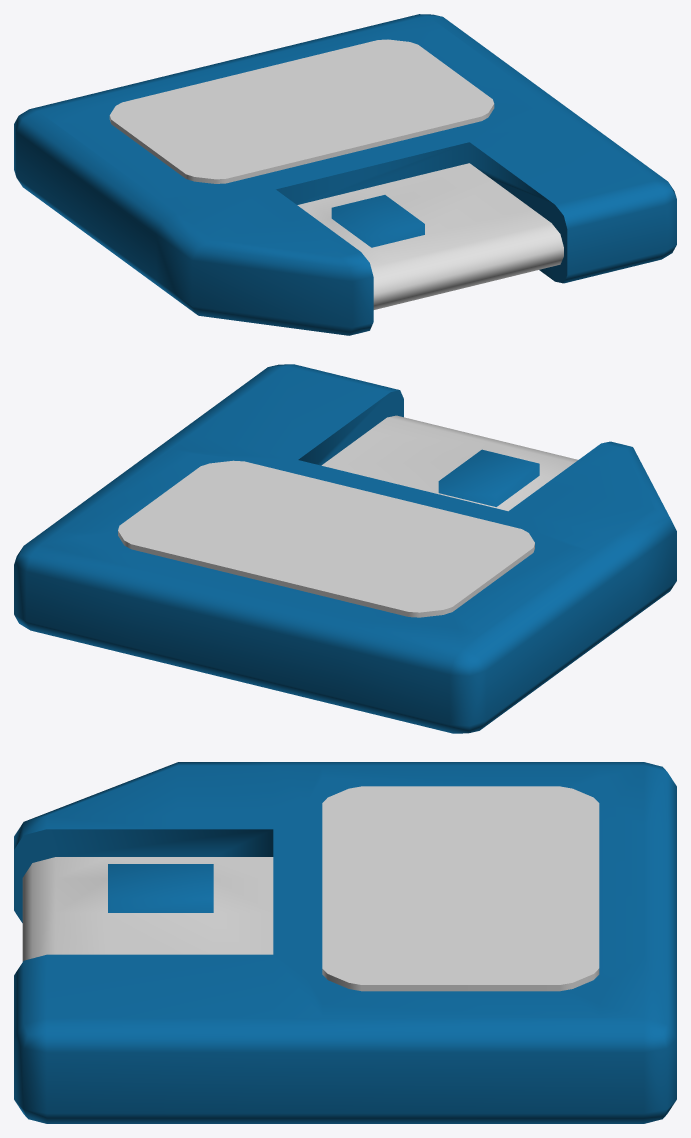
File: SaveButton.fbx
The picture shows the model from 3 angles, top to bottom: view 1: azimuth 30°, elevation 25°; view 2: azimuth 150°, elevation 25°; view 3: azimuth 270°, elevation 25°; orthographic projection. The views are drawn at different scales.
Visible parts, largest first — view 1: SaveGame; view 2: SaveGame; view 3: SaveGame.
Boxes of the visible parts, left/top/right/bottom form: SaveGame: left=14, top=14, right=676, bottom=335; SaveGame: left=14, top=364, right=676, bottom=733; SaveGame: left=14, top=762, right=676, bottom=1123.
Bounding box in the file's own units: 0.8924 × 0.1609 × 0.8924.
